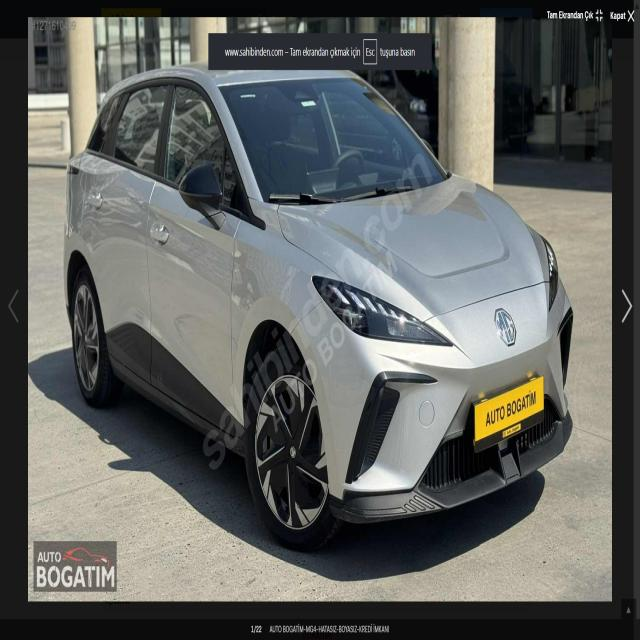mg: (488, 303, 526, 351)
